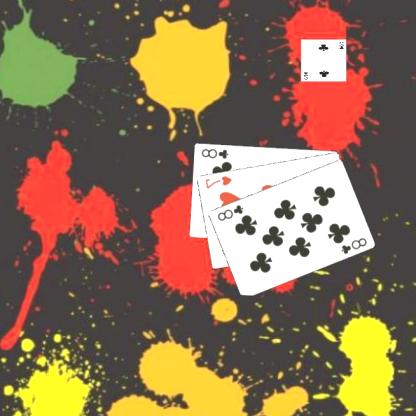7H: (204, 173, 236, 190)
8C: (216, 202, 246, 222), (340, 235, 370, 255), (201, 146, 232, 160)
